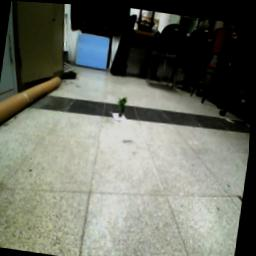herb: (117, 94, 130, 116)
